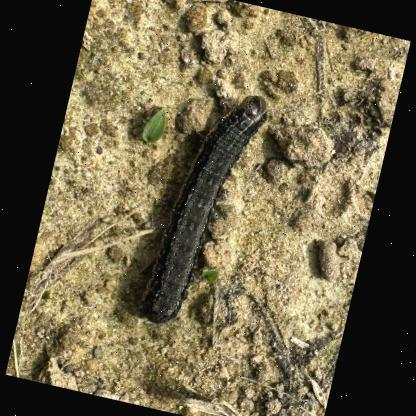Fall Armyworm Larvae: (130, 76, 275, 342)
